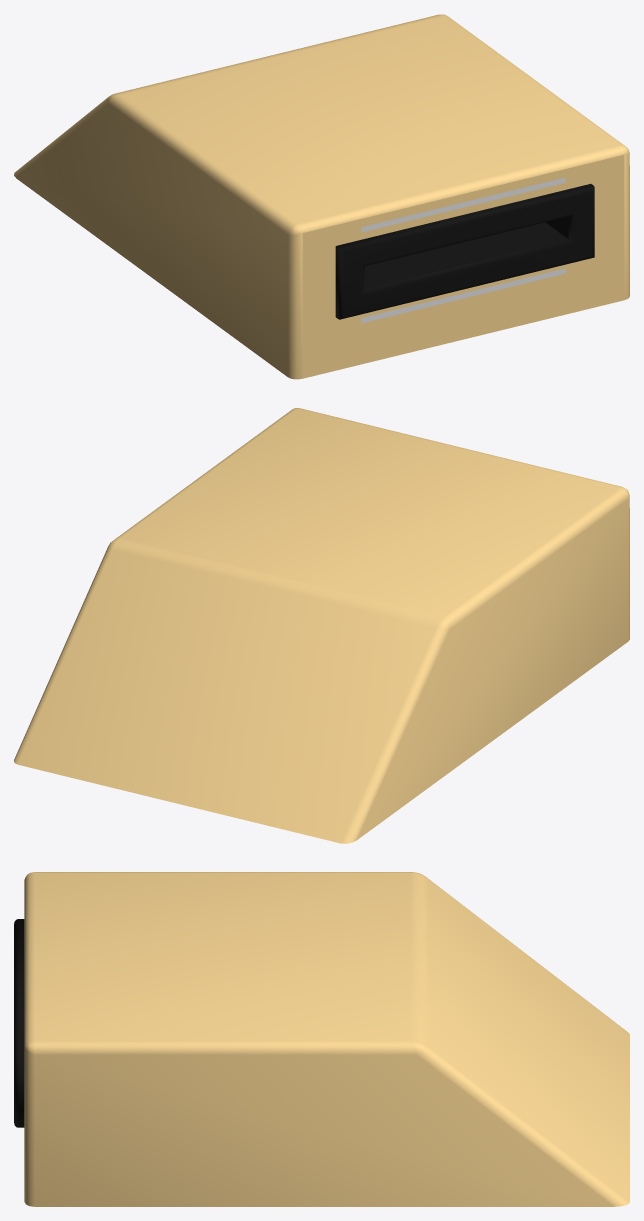
Rendered from card-reader.glb.
The picture shows the model from 3 angles, top to bottom: view 1: azimuth 30°, elevation 25°; view 2: azimuth 150°, elevation 25°; view 3: azimuth 270°, elevation 25°; orthographic projection. The views are drawn at different scales.
Visible parts, largest first — view 1: card-reader; view 2: card-reader; view 3: card-reader.
Part boxes in pixels (x1,y1,x2,y2): card-reader: (14, 14, 629, 379); card-reader: (14, 408, 629, 843); card-reader: (14, 872, 629, 1206).
Size of the model in its own units: 0.2 by 0.085 by 0.294.
